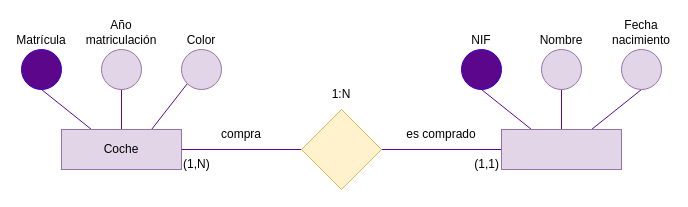
The diagram is 688 pixels wide and 207 high, and some of its shapes have lost their labels. The centre of each missing label's shape, as x and y in pixels:
"Cliente" goes at [561,149].
"coche-cliente" goes at [341,149].
